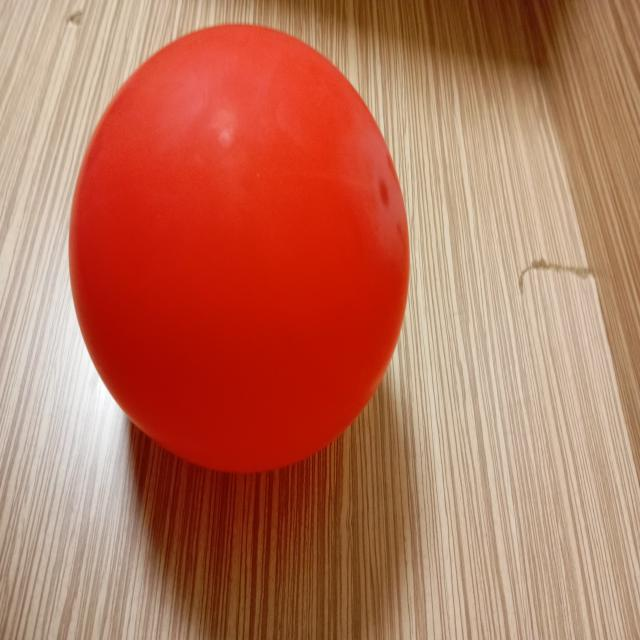balloon: (68, 24, 410, 473)
